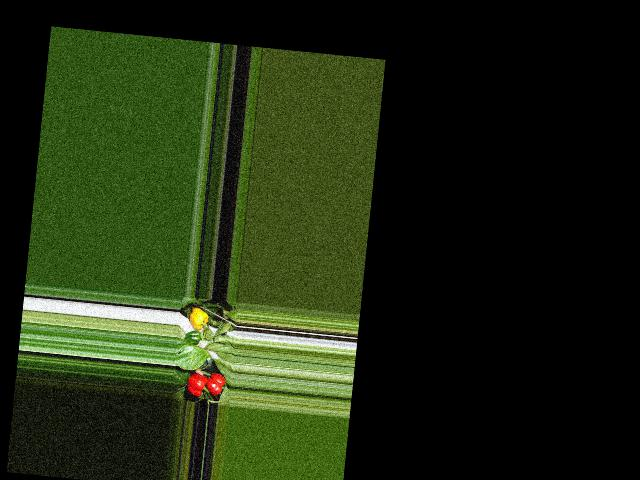bell_pepper: (186, 304, 210, 331)
